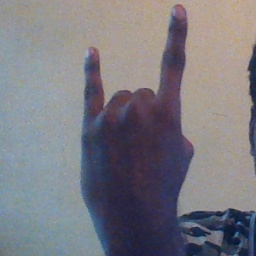V: (83, 2, 198, 222)
